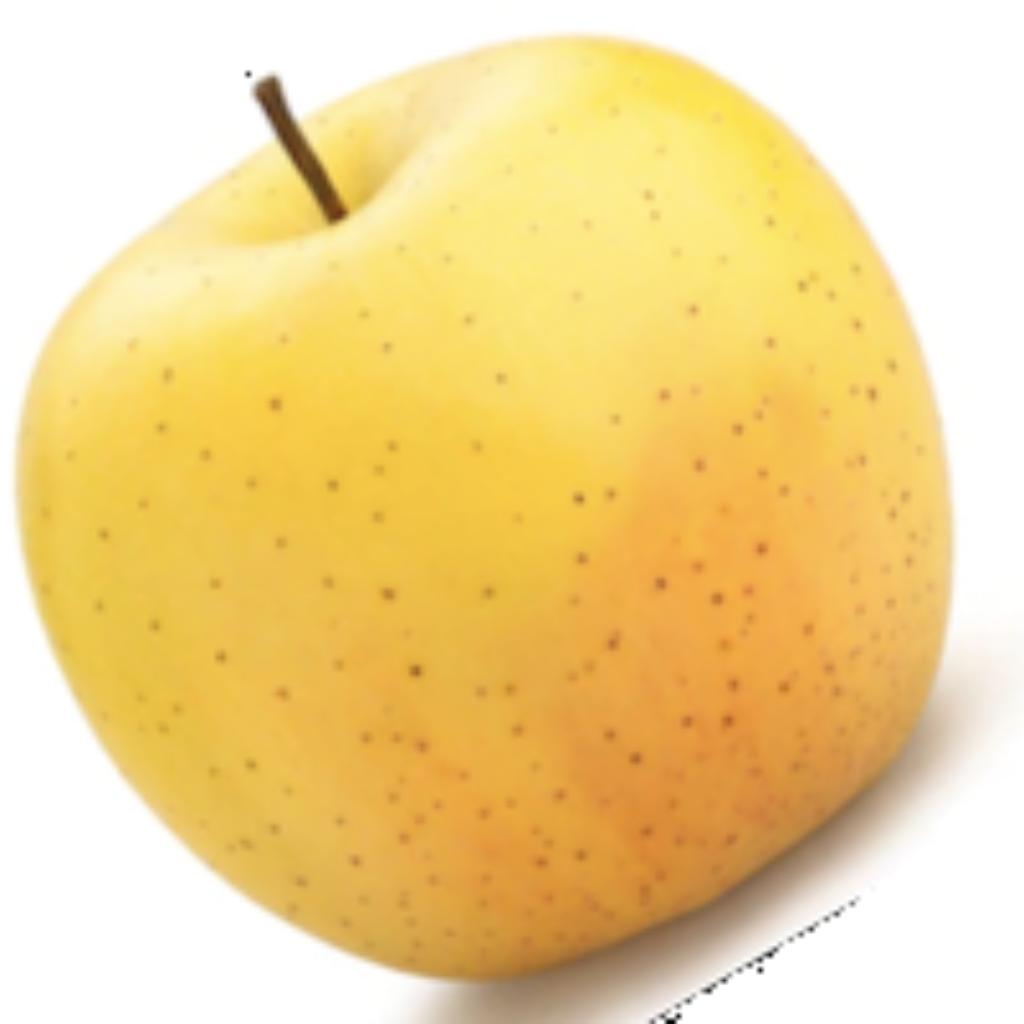apple: (5, 26, 1001, 1019)
